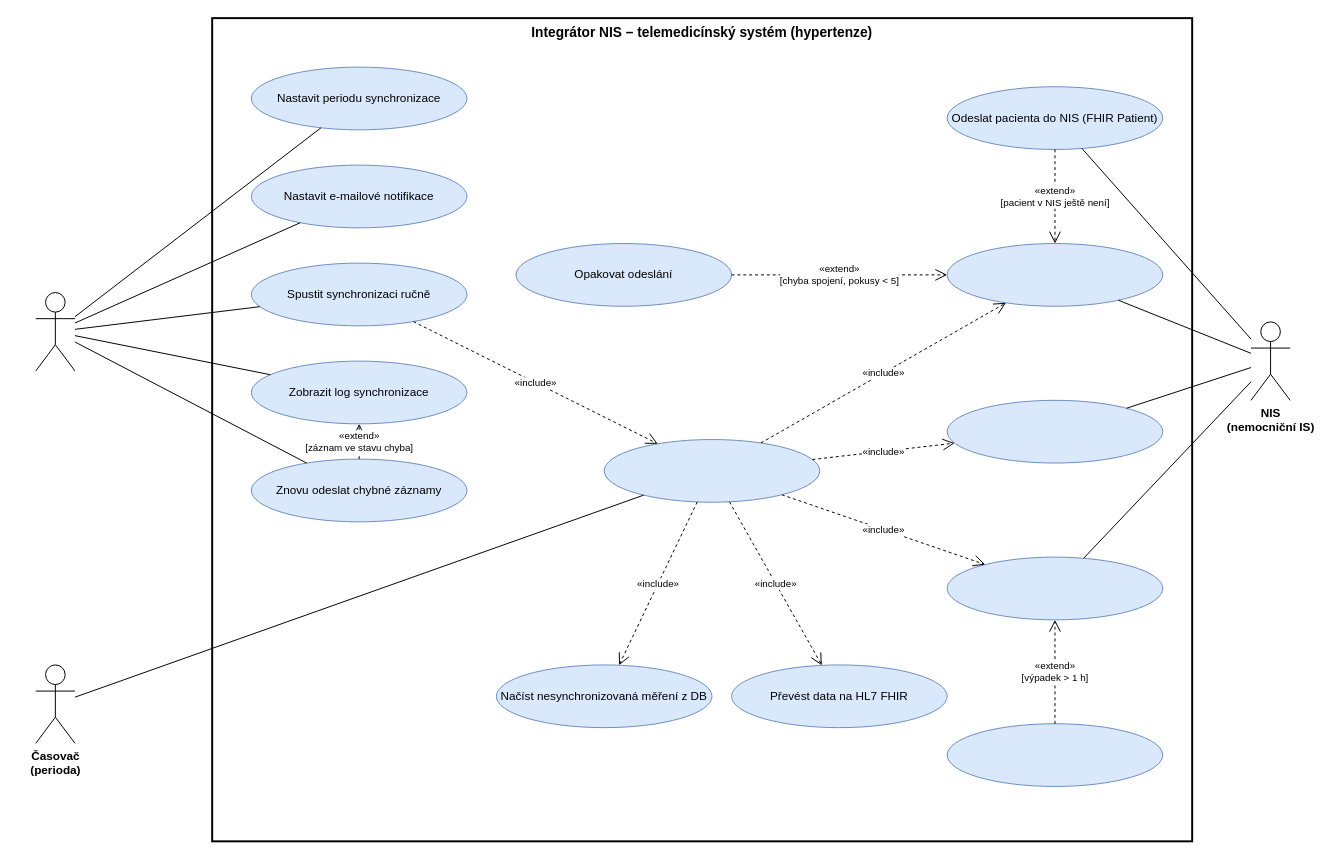
Image size: 1331x858. Some labels were removed from this diagram. The box of each missing label's shape, as (x1, y1, x2, y2) in pixels:
Administrátor: (35, 292, 75, 371)
Odeslat e-mail administrátorovi o nedostupnosti NIS: (946, 723, 1163, 786)
Odeslat měření do NIS (FHIR Observation): (946, 243, 1163, 306)
Ověřit spojení s NIS: (946, 556, 1163, 620)
Synchronizovat data s NIS: (603, 439, 820, 502)
Zpracovat odpověď NIS (potvrzení / odmítnutí): (946, 399, 1163, 463)
